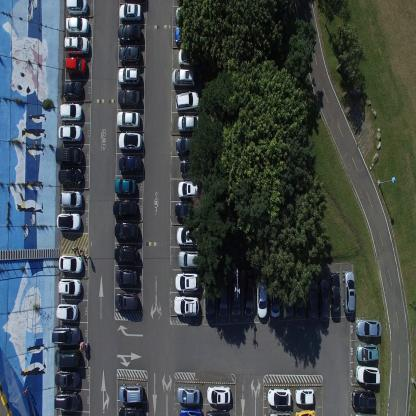car: (176, 226, 204, 248), (52, 324, 80, 346), (343, 268, 356, 314), (55, 145, 83, 166), (352, 387, 376, 410), (175, 90, 200, 112), (54, 388, 79, 410), (176, 135, 202, 156), (174, 295, 200, 316), (174, 6, 201, 26), (269, 271, 280, 319), (118, 382, 142, 404), (356, 363, 380, 385), (117, 23, 142, 44), (356, 317, 381, 338), (174, 26, 200, 46), (64, 35, 90, 55), (53, 348, 80, 367), (117, 64, 140, 86), (113, 198, 137, 219), (114, 290, 138, 311), (174, 272, 199, 292), (118, 131, 143, 151), (114, 221, 139, 241), (267, 387, 292, 407), (58, 166, 84, 185), (174, 201, 200, 220), (306, 282, 317, 326), (329, 272, 340, 316), (65, 56, 88, 77), (119, 1, 142, 22), (172, 68, 196, 88), (118, 154, 142, 174), (205, 274, 215, 322), (206, 385, 230, 405), (176, 385, 200, 405), (59, 101, 83, 121), (114, 244, 138, 264), (256, 274, 266, 321), (54, 369, 80, 387), (60, 187, 82, 208), (218, 274, 228, 320), (118, 89, 141, 109), (58, 277, 81, 297), (115, 266, 138, 286), (56, 212, 80, 231), (66, 16, 90, 35), (243, 276, 254, 317), (177, 251, 203, 268), (230, 278, 241, 318), (294, 276, 304, 320), (318, 280, 328, 324), (177, 114, 200, 133), (119, 45, 142, 64), (56, 302, 79, 321), (58, 124, 82, 142), (59, 254, 83, 272), (114, 177, 136, 196), (356, 343, 378, 362), (117, 110, 140, 128), (283, 274, 292, 320), (177, 180, 200, 198), (179, 159, 203, 176), (62, 80, 84, 98), (294, 388, 315, 406), (178, 48, 198, 66), (66, 0, 88, 15), (118, 404, 143, 415), (205, 408, 229, 416), (178, 407, 202, 415), (294, 410, 316, 416), (267, 410, 291, 415), (354, 411, 376, 415)
